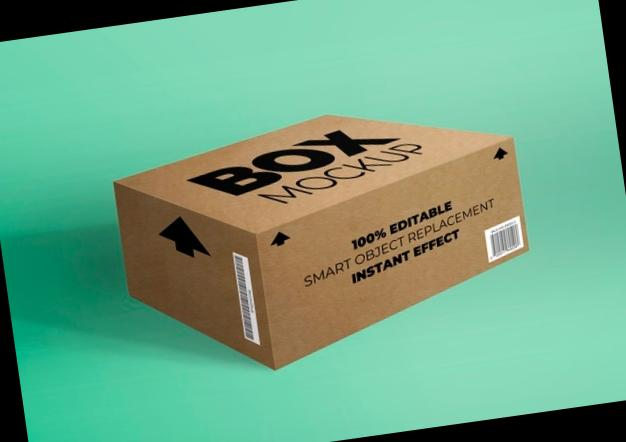cardboard: (78, 63, 575, 392)
